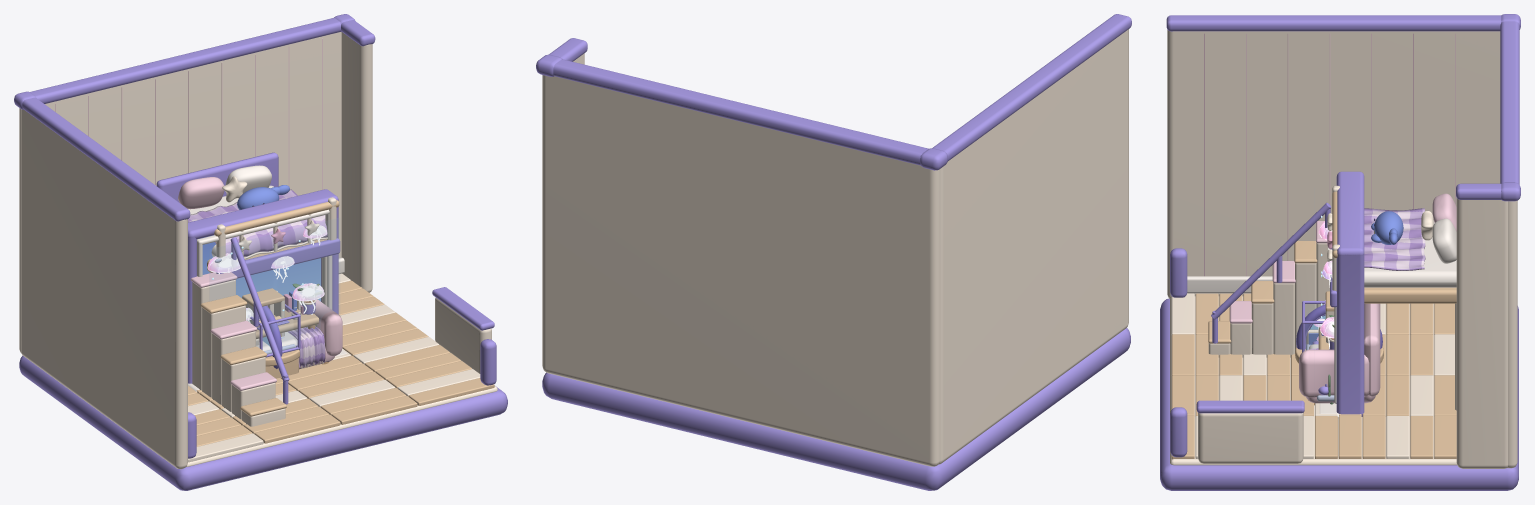
File: kit.glb
The picture shows the model from 3 angles, left to right: view 1: azimuth 30°, elevation 25°; view 2: azimuth 150°, elevation 25°; view 3: azimuth 270°, elevation 25°; orthographic projection. The views are drawn at different scales.
Parts seen in each view (by area): view 1: shell_cream_left, shell_cream_back, shell_woodLight_floor, shell_lavender_floor, shell_cream_right, aquarium_Glass • tinted thin surface_, loft_cream_, shell_cream_floor, shell_lavender_back, loft_lavender_, aquarium_lavender_, shell_lavender_left (+13 smaller); view 2: shell_cream_back, shell_cream_left, shell_lavender_floor, shell_lavender_back, shell_lavender_left; view 3: shell_cream_left, shell_woodLight_floor, shell_cream_right, shell_lavender_floor, shell_cream_floor, aquarium_lavender_, loft_cream_, shell_lavender_left, loft_woodLight_, sofa_blush_, shell_lavender_back, loft_white_ (+11 smaller).
Part boxes in pixels (x1=…): shell_cream_left: x1=21, y1=109, x2=187, y2=469; shell_cream_back: x1=19, y1=32, x2=341, y2=353; shell_woodLight_floor: x1=188, y1=280, x2=494, y2=446; shell_lavender_floor: x1=14, y1=14, x2=507, y2=490; shell_cream_right: x1=341, y1=32, x2=491, y2=373; aquarium_Glass • tinted thin surface_: x1=210, y1=218, x2=339, y2=333; loft_cream_: x1=192, y1=176, x2=336, y2=426; shell_cream_floor: x1=186, y1=273, x2=497, y2=466; shell_lavender_back: x1=30, y1=18, x2=340, y2=103; loft_lavender_: x1=156, y1=152, x2=340, y2=404; aquarium_lavender_: x1=188, y1=189, x2=338, y2=383; shell_lavender_left: x1=22, y1=97, x2=190, y2=221; shell_cream_back: x1=542, y1=75, x2=940, y2=466; shell_cream_left: x1=938, y1=29, x2=1128, y2=464; shell_lavender_floor: x1=536, y1=54, x2=1130, y2=490; shell_lavender_back: x1=553, y1=59, x2=928, y2=165; shell_lavender_left: x1=932, y1=14, x2=1131, y2=161; shell_cream_left: x1=1167, y1=30, x2=1500, y2=298; shell_woodLight_floor: x1=1171, y1=293, x2=1456, y2=459; shell_cream_right: x1=1198, y1=198, x2=1507, y2=468; shell_lavender_floor: x1=1160, y1=14, x2=1520, y2=490; shell_cream_floor: x1=1170, y1=293, x2=1456, y2=465; aquarium_lavender_: x1=1318, y1=171, x2=1364, y2=416; loft_cream_: x1=1208, y1=185, x2=1456, y2=410; shell_lavender_left: x1=1166, y1=15, x2=1501, y2=31; loft_woodLight_: x1=1208, y1=191, x2=1456, y2=343; sofa_blush_: x1=1299, y1=303, x2=1380, y2=403; shell_lavender_back: x1=1500, y1=21, x2=1519, y2=184; loft_white_: x1=1364, y1=218, x2=1456, y2=287.
Size of the model in its own units: 6.54 by 5.25 by 5.61.
26 materials, 2 textured.
